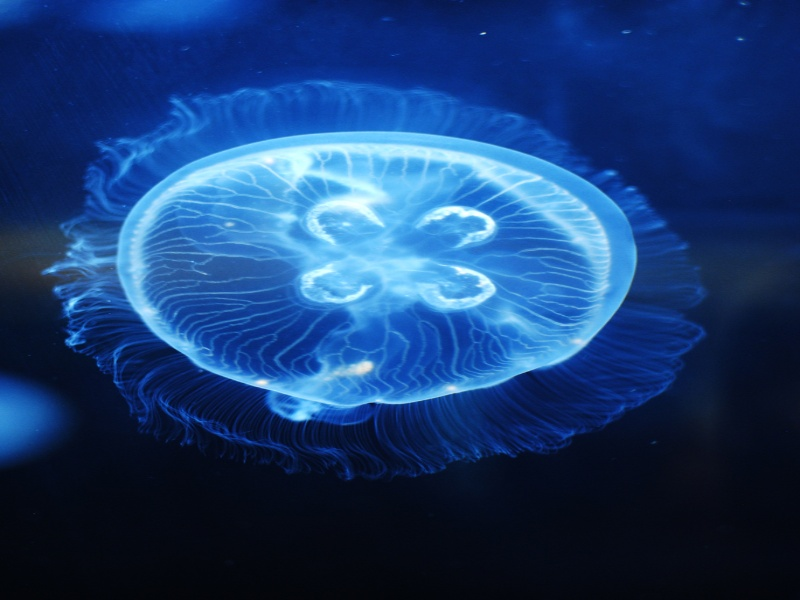Jellyfish: (60, 98, 710, 488)
